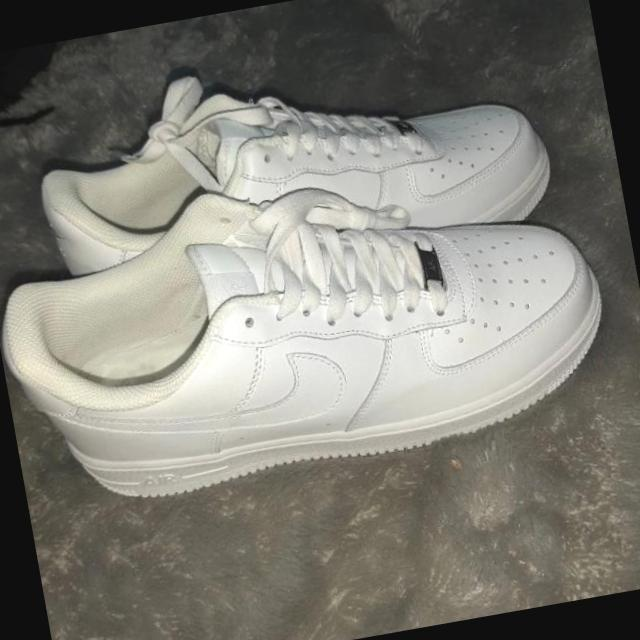nike_original_airforce: (0, 129, 636, 522), (25, 30, 562, 308)
